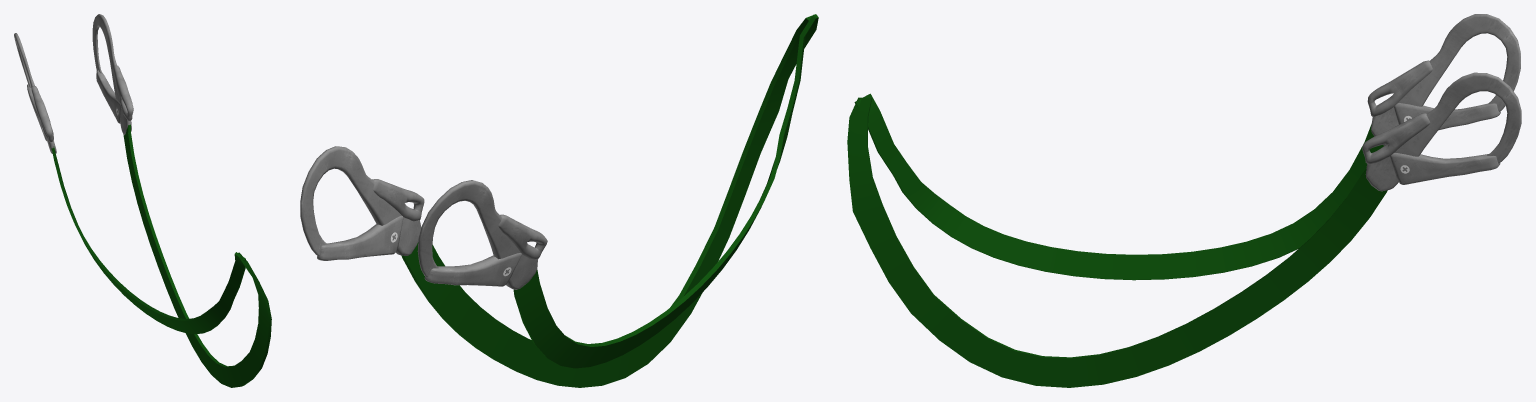
Rendered from Hook.fbx.
3 renders of one model, left to right at view 1: azimuth 30°, elevation 25°; view 2: azimuth 150°, elevation 25°; view 3: azimuth 270°, elevation 25°, orthographic. The views are drawn at different scales.
Visible parts, largest first — view 1: pCube106, pCube105, pasted__Group57151 (×2), pasted__Group43081 (×2), pasted__Lock; view 2: pCube106, pasted__Group57151 (×2), pCube105, pasted__Lock (×2), pasted__Group43081 (×2); view 3: pCube106, pCube105, pasted__Group57151 (×2), pasted__Lock (×2), pasted__Group43081 (×2).
Boxes of the visible parts, <box> form: pCube106: <box>123,124,271,387</box>; pCube105: <box>51,146,245,334</box>; pasted__Group57151 (×2): <box>14,14,131,153</box>; pasted__Group43081 (×2): <box>31,65,133,142</box>; pasted__Lock: <box>96,70,121,123</box>; pCube106: <box>401,14,818,387</box>; pasted__Group57151 (×2): <box>300,146,537,289</box>; pCube105: <box>513,14,816,368</box>; pasted__Lock (×2): <box>317,216,521,286</box>; pasted__Group43081 (×2): <box>372,179,547,259</box>; pCube106: <box>847,97,1387,387</box>; pCube105: <box>854,93,1383,280</box>; pasted__Group57151 (×2): <box>1365,14,1521,191</box>; pasted__Lock (×2): <box>1390,103,1500,184</box>; pasted__Group43081 (×2): <box>1362,60,1432,164</box>.
Bounding box in the file's own units: 20.85 × 47.46 × 85.09.
Materials: 2 (1 with a texture image).
